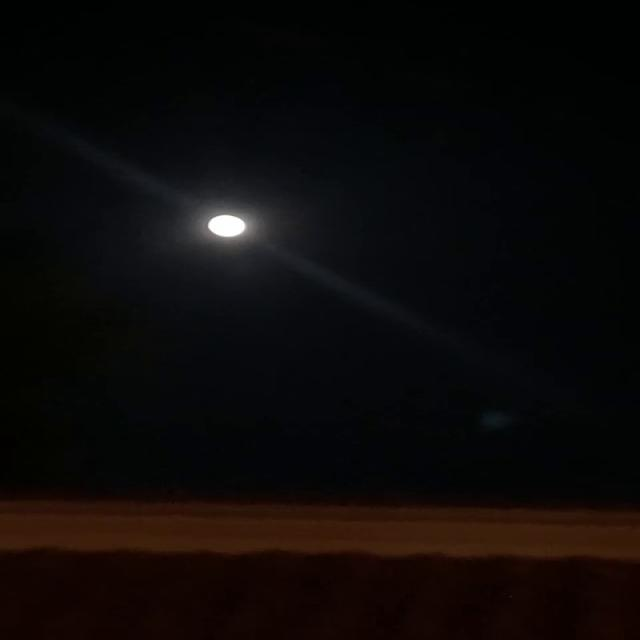moon: (202, 208, 254, 240)
